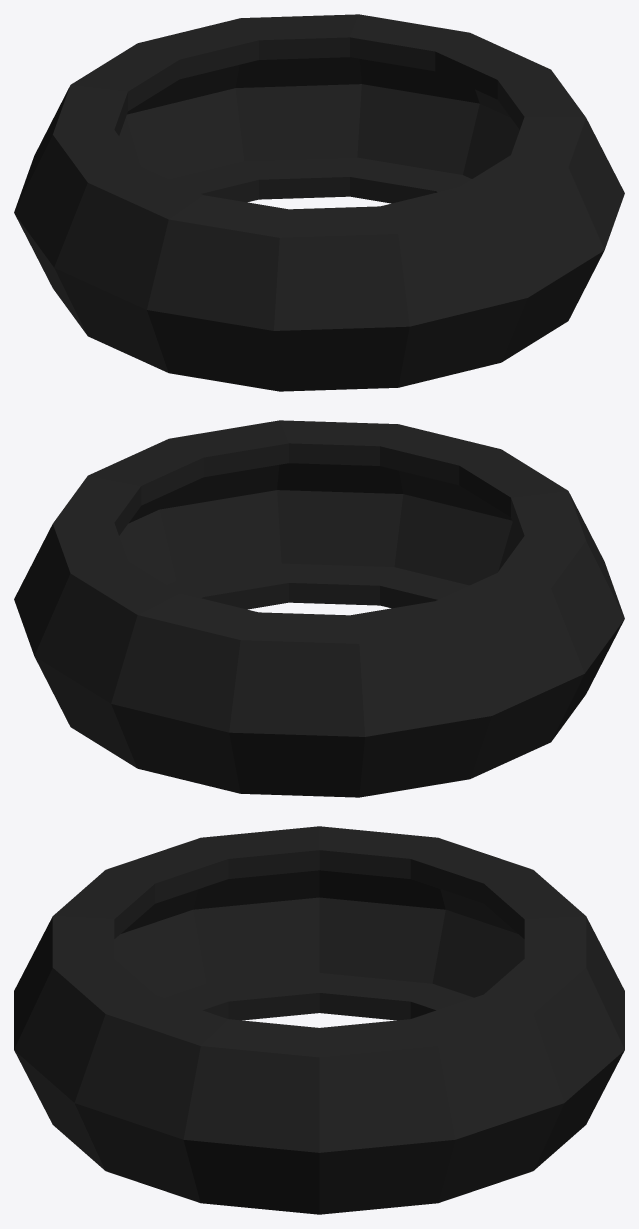
Rendered from SM_wheel_01.fbx.
The picture shows the model from 3 angles, top to bottom: view 1: azimuth 30°, elevation 25°; view 2: azimuth 150°, elevation 25°; view 3: azimuth 270°, elevation 25°; orthographic projection. The views are drawn at different scales.
Parts seen in each view (by area): view 1: Cylinder006; view 2: Cylinder006; view 3: Cylinder006.
Part boxes in pixels (x1,y1,x2,y2): Cylinder006: (14, 14, 624, 391); Cylinder006: (14, 420, 624, 797); Cylinder006: (14, 826, 624, 1214).
Bounding box in the file's own units: 32.87 × 32.05 × 9.43.
